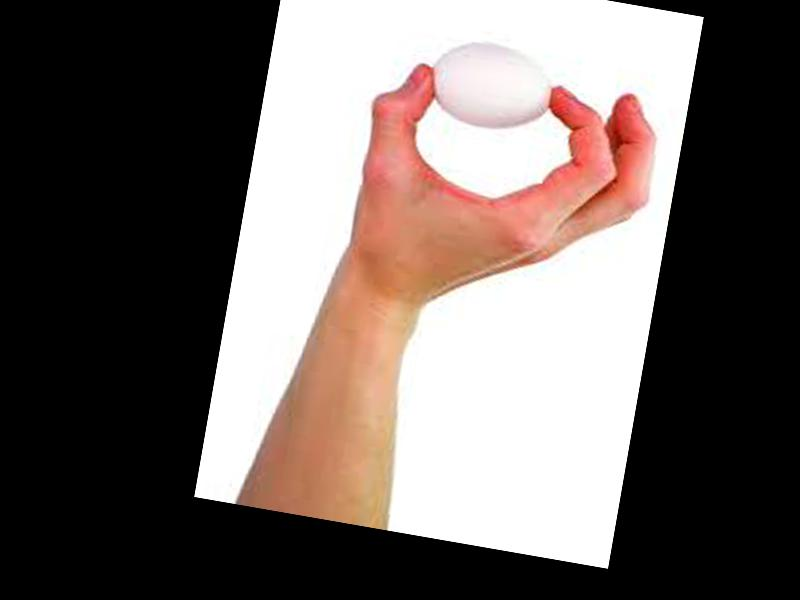Eggs: (425, 34, 559, 138)
